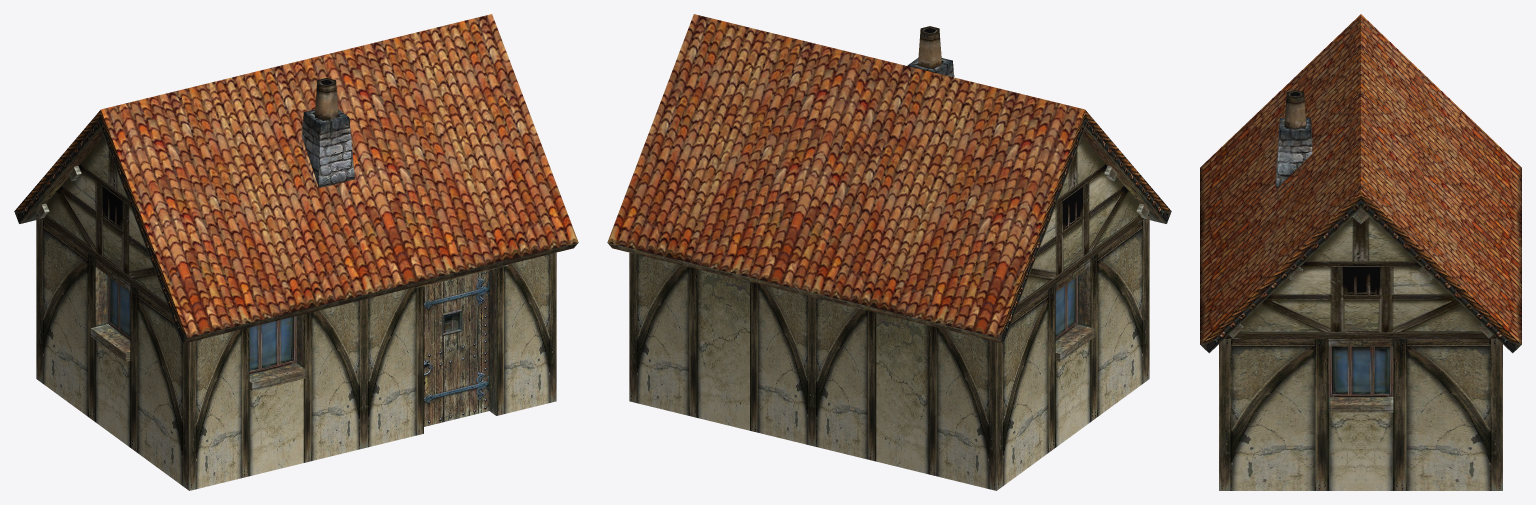
Rendered from S_home13.glb.
3 views of the same model, side by side, from view 1: azimuth 30°, elevation 25°; view 2: azimuth 150°, elevation 25°; view 3: azimuth 270°, elevation 25° (orthographic). The views are drawn at different scales.
Visible parts, largest first — view 1: S_home13-col; view 2: S_home13-col; view 3: S_home13-col.
Boxes of the visible parts, box(x1,y1,x2,y2) form: S_home13-col: box(14, 14, 578, 490); S_home13-col: box(607, 14, 1171, 490); S_home13-col: box(1200, 14, 1521, 490).
Bounding box in the file's own units: 6.5 × 5.32 × 4.98.
9 materials, 9 textured.
